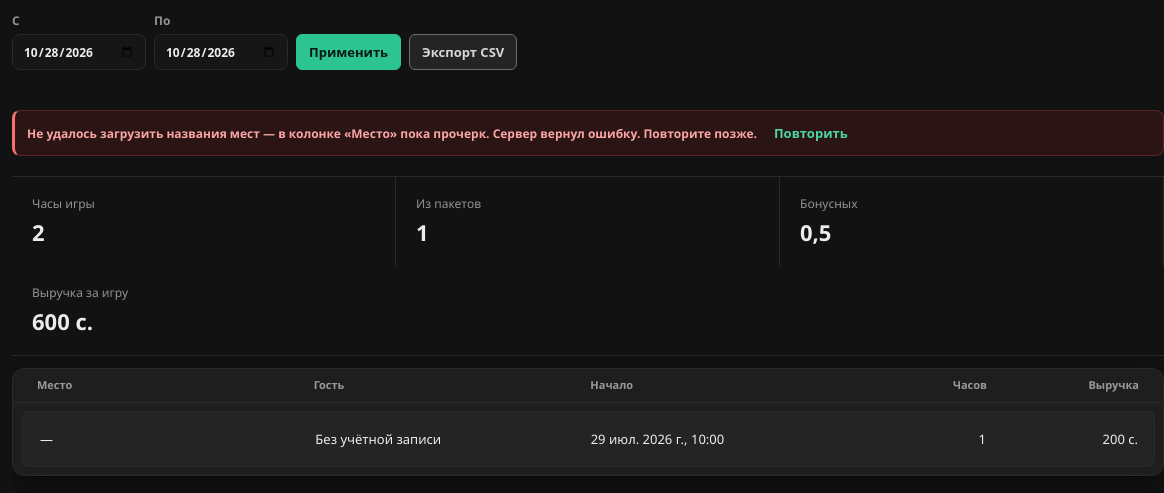
Scenario: GameplayTimeReport › отказ плана зала не прячет отчёт, называет причину и повторяет только план
Check: the text "Часы игры" is shown, box [32,195,95,212]
Check: the text "Не удалось загрузить названия мест" shows "Сервер вернул ошибку. Повторите позже.", box [27,124,757,142]
Click the button "Повторить".
click(811, 133)  # box [765,119,857,147]
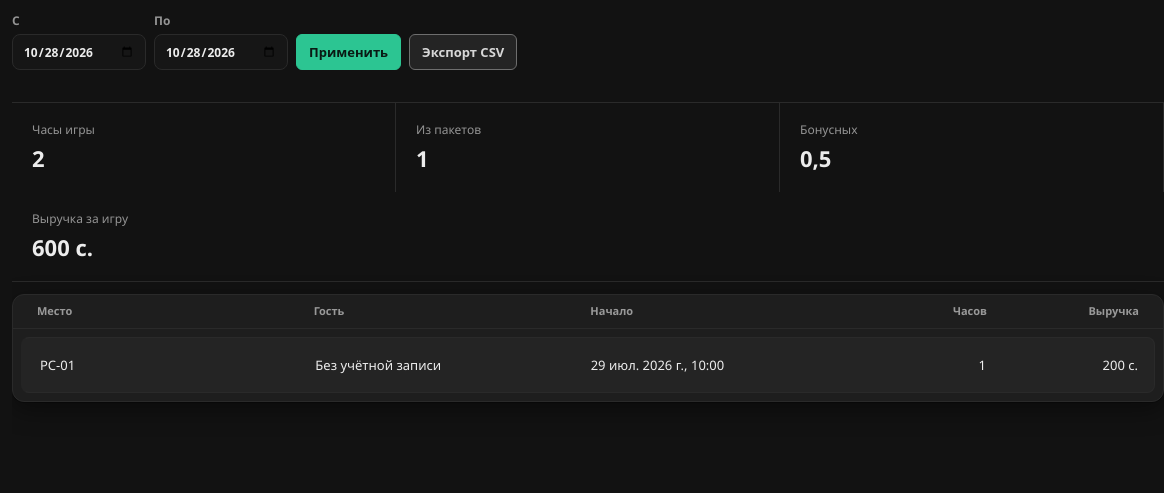
Check: the text "PC-01" is shown, box [40,356,75,374]
